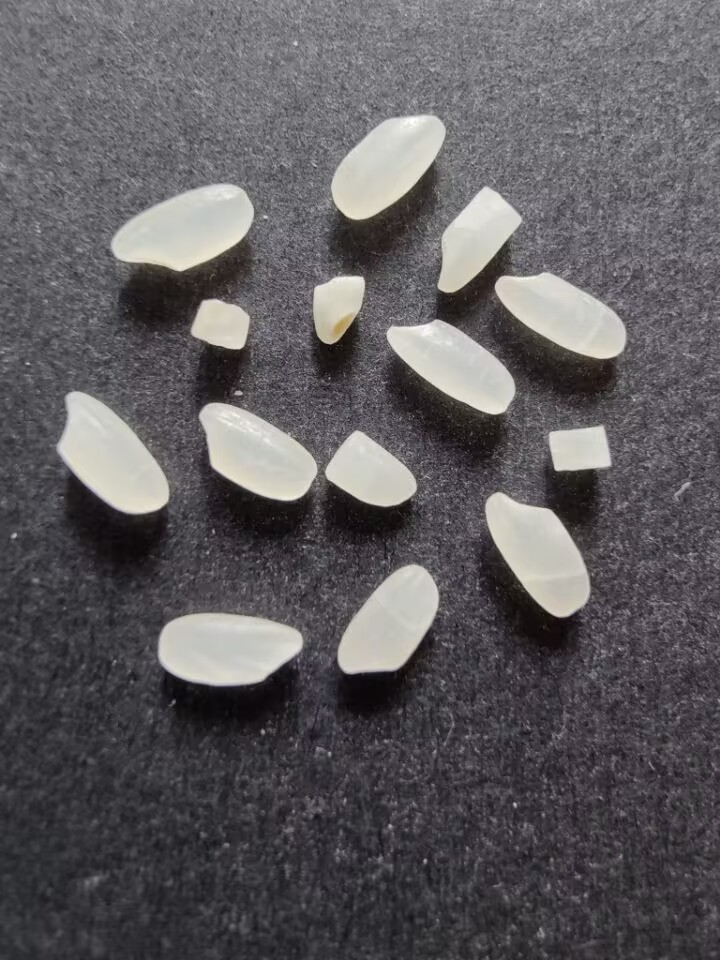broken: (436, 185, 523, 294), (319, 425, 420, 508), (308, 270, 370, 352), (187, 295, 252, 357), (544, 425, 618, 478)
rice: (51, 390, 172, 517), (102, 180, 257, 278), (480, 488, 592, 620), (196, 401, 319, 505), (328, 114, 447, 220), (335, 561, 440, 680), (156, 610, 308, 690), (494, 272, 628, 359)
